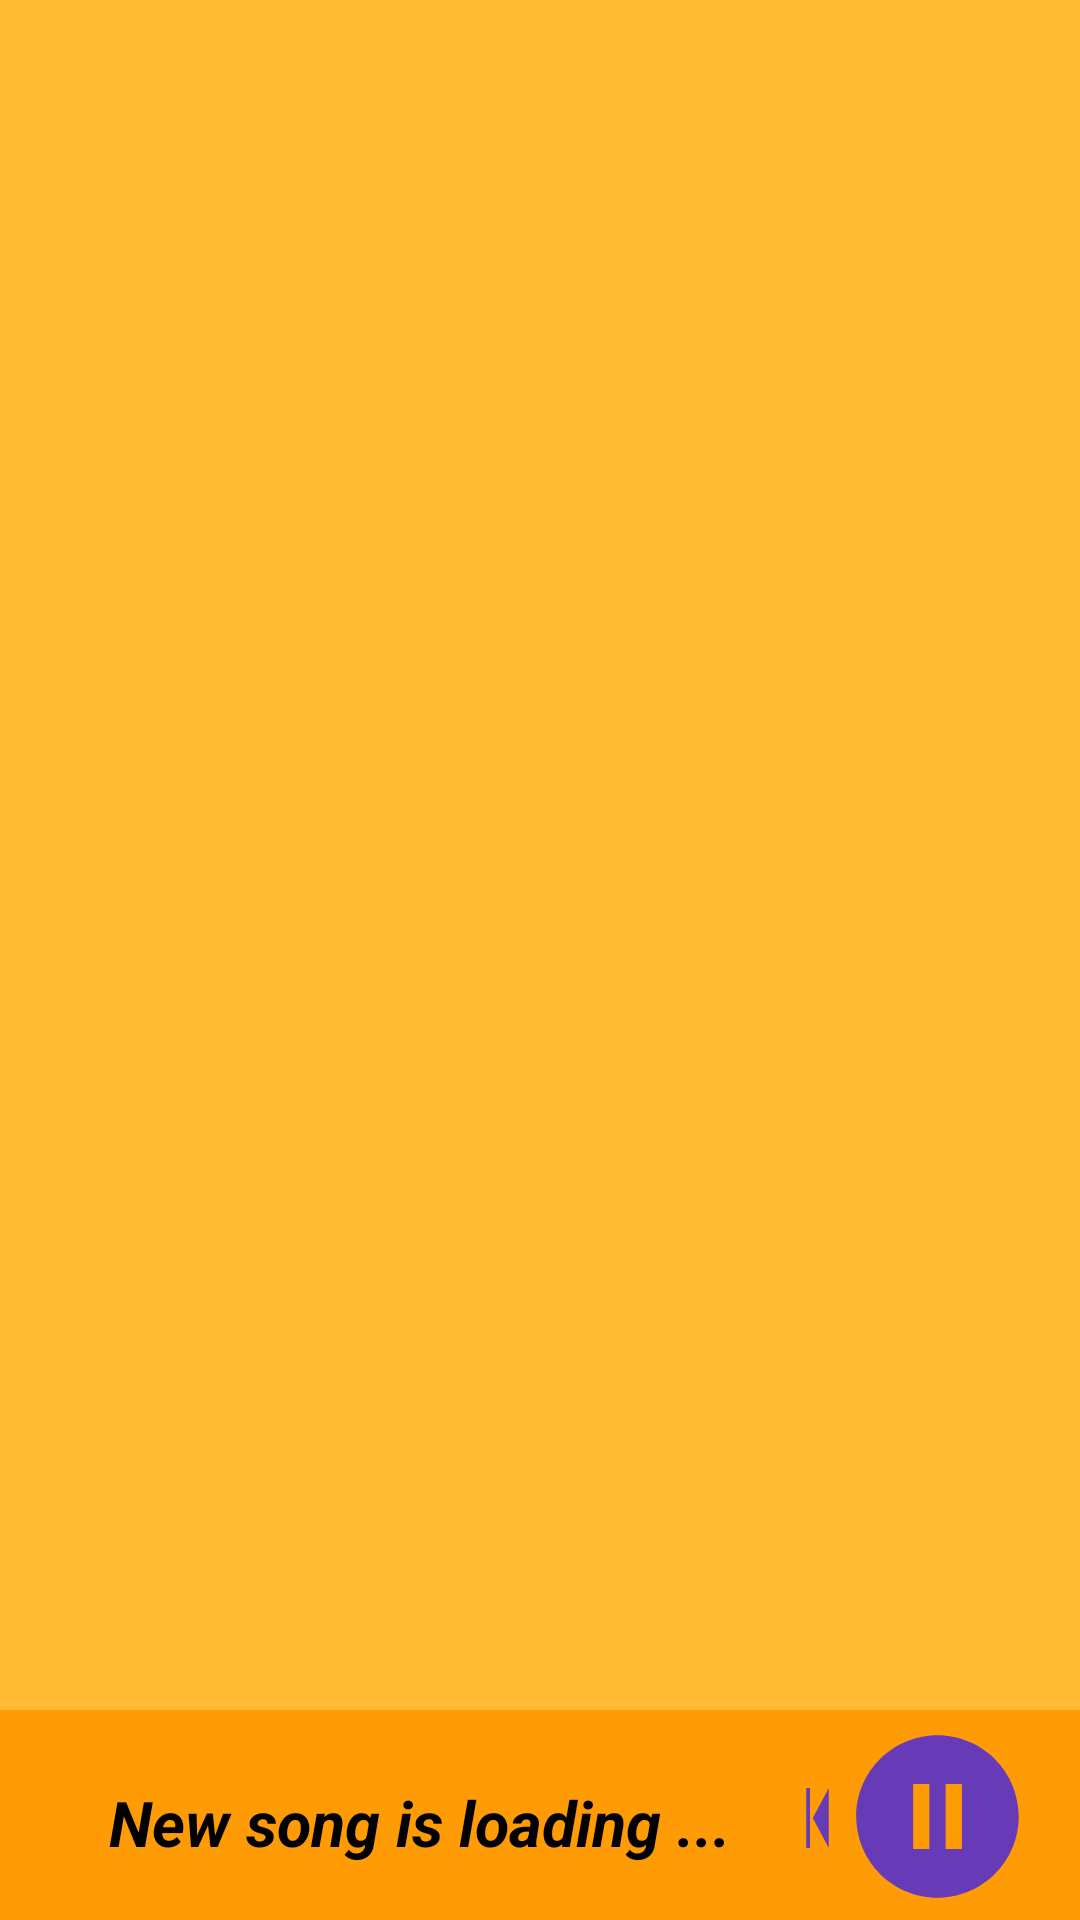

Where to tap for icons on this 1080*1920 app screen, as [x,y]:
pause: [937,1816]
previous: [817,1818]
